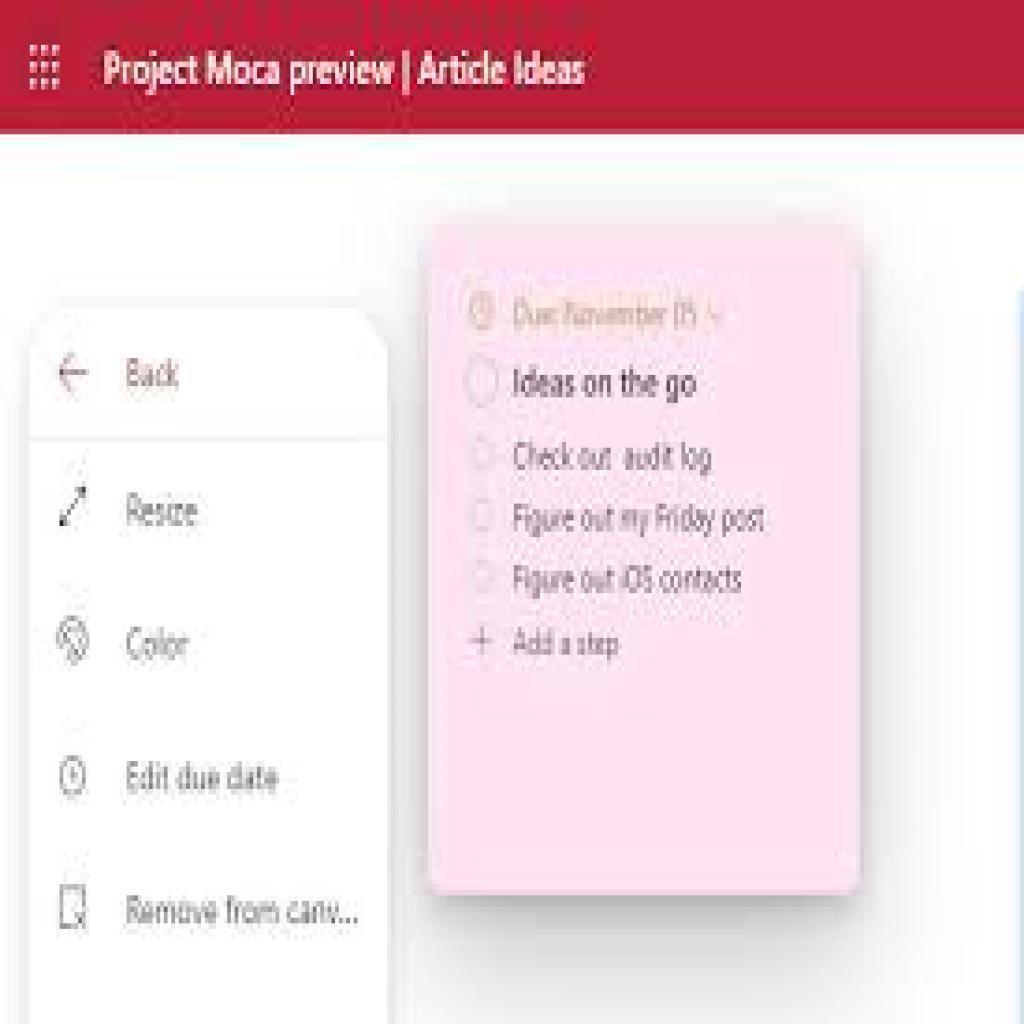icon: (46, 340, 105, 403), (21, 33, 69, 103), (55, 871, 99, 946), (52, 610, 98, 679), (53, 751, 100, 807), (54, 483, 98, 536), (462, 624, 502, 662)
label: (515, 558, 746, 603), (515, 505, 772, 539), (514, 363, 702, 408), (510, 298, 732, 336), (512, 444, 716, 485), (511, 621, 627, 665)
radio: (461, 355, 505, 411), (464, 284, 501, 332), (468, 437, 504, 477), (470, 498, 499, 537), (467, 561, 501, 594)
